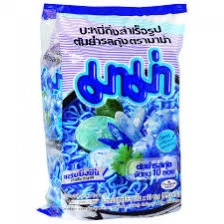snack: (28, 0, 193, 224)
